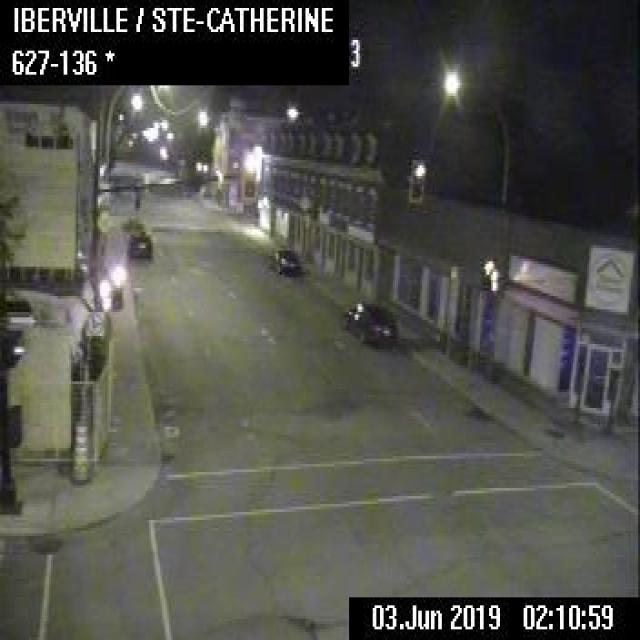construction: (69, 420, 91, 484)
vehicle: (341, 297, 396, 344), (266, 245, 301, 275), (127, 228, 151, 256)
